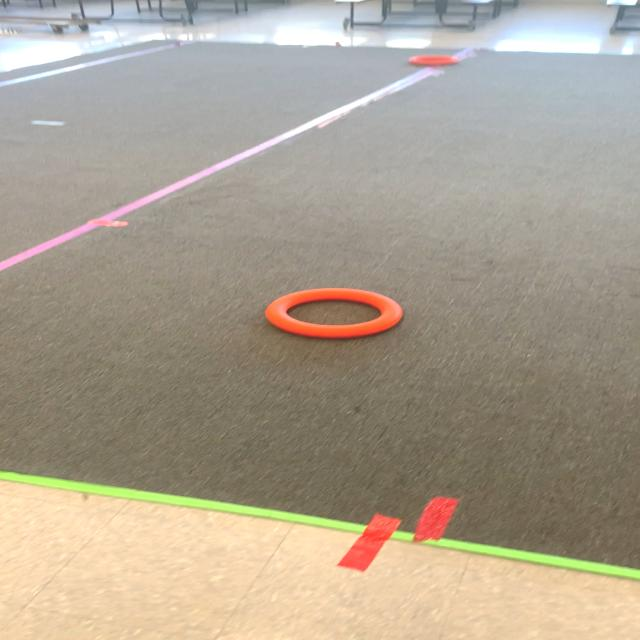notes: (265, 286, 400, 340), (407, 54, 458, 66)
